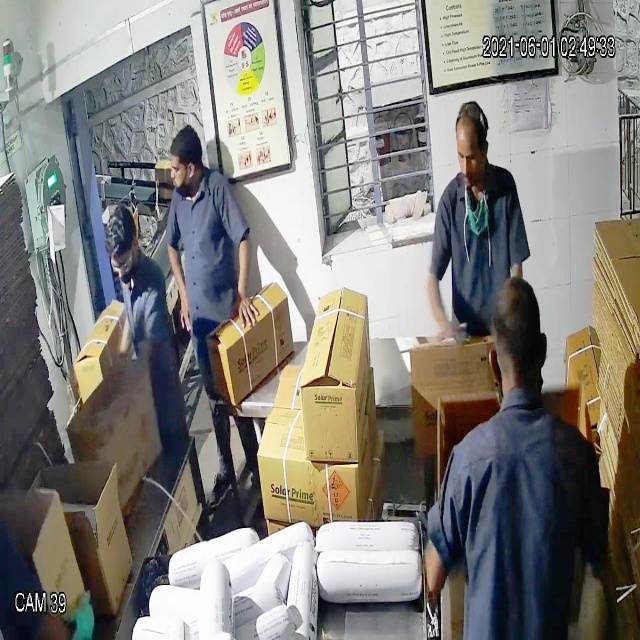Gafas: (104, 247, 139, 282)
Sin_gafas: (452, 135, 493, 174)
